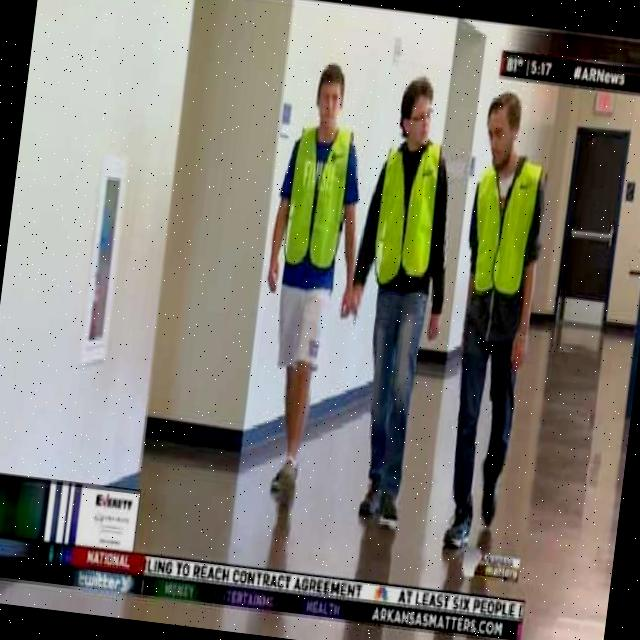vest: (273, 124, 360, 287), (365, 140, 451, 292), (464, 158, 548, 304)
